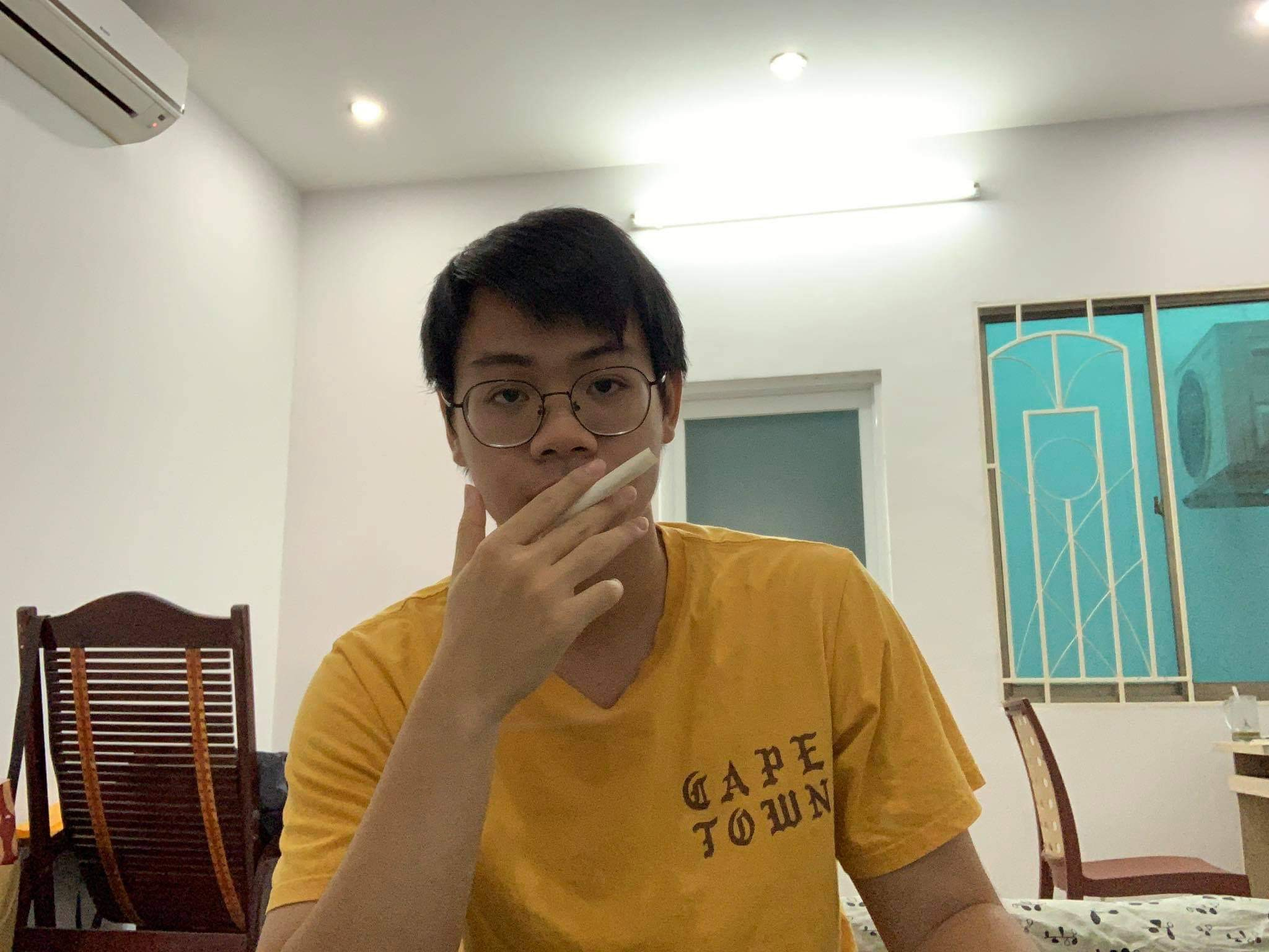cigarette: (588, 442, 665, 505)
person: (247, 198, 1004, 952)
